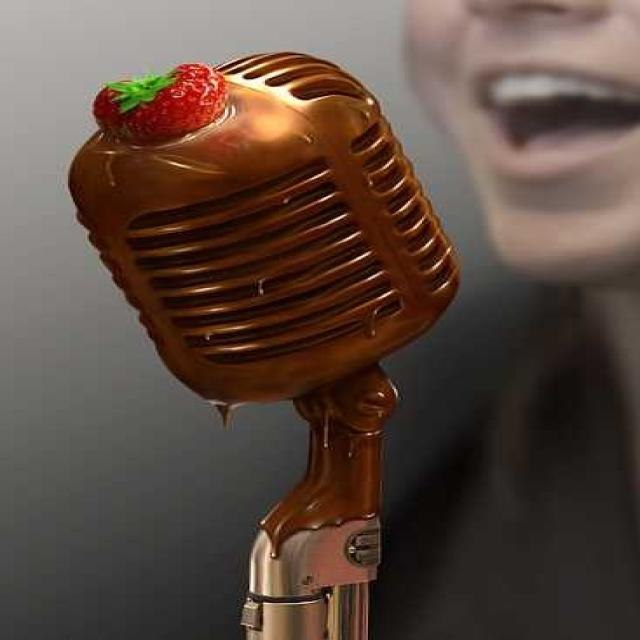microphone: (76, 39, 487, 400)
